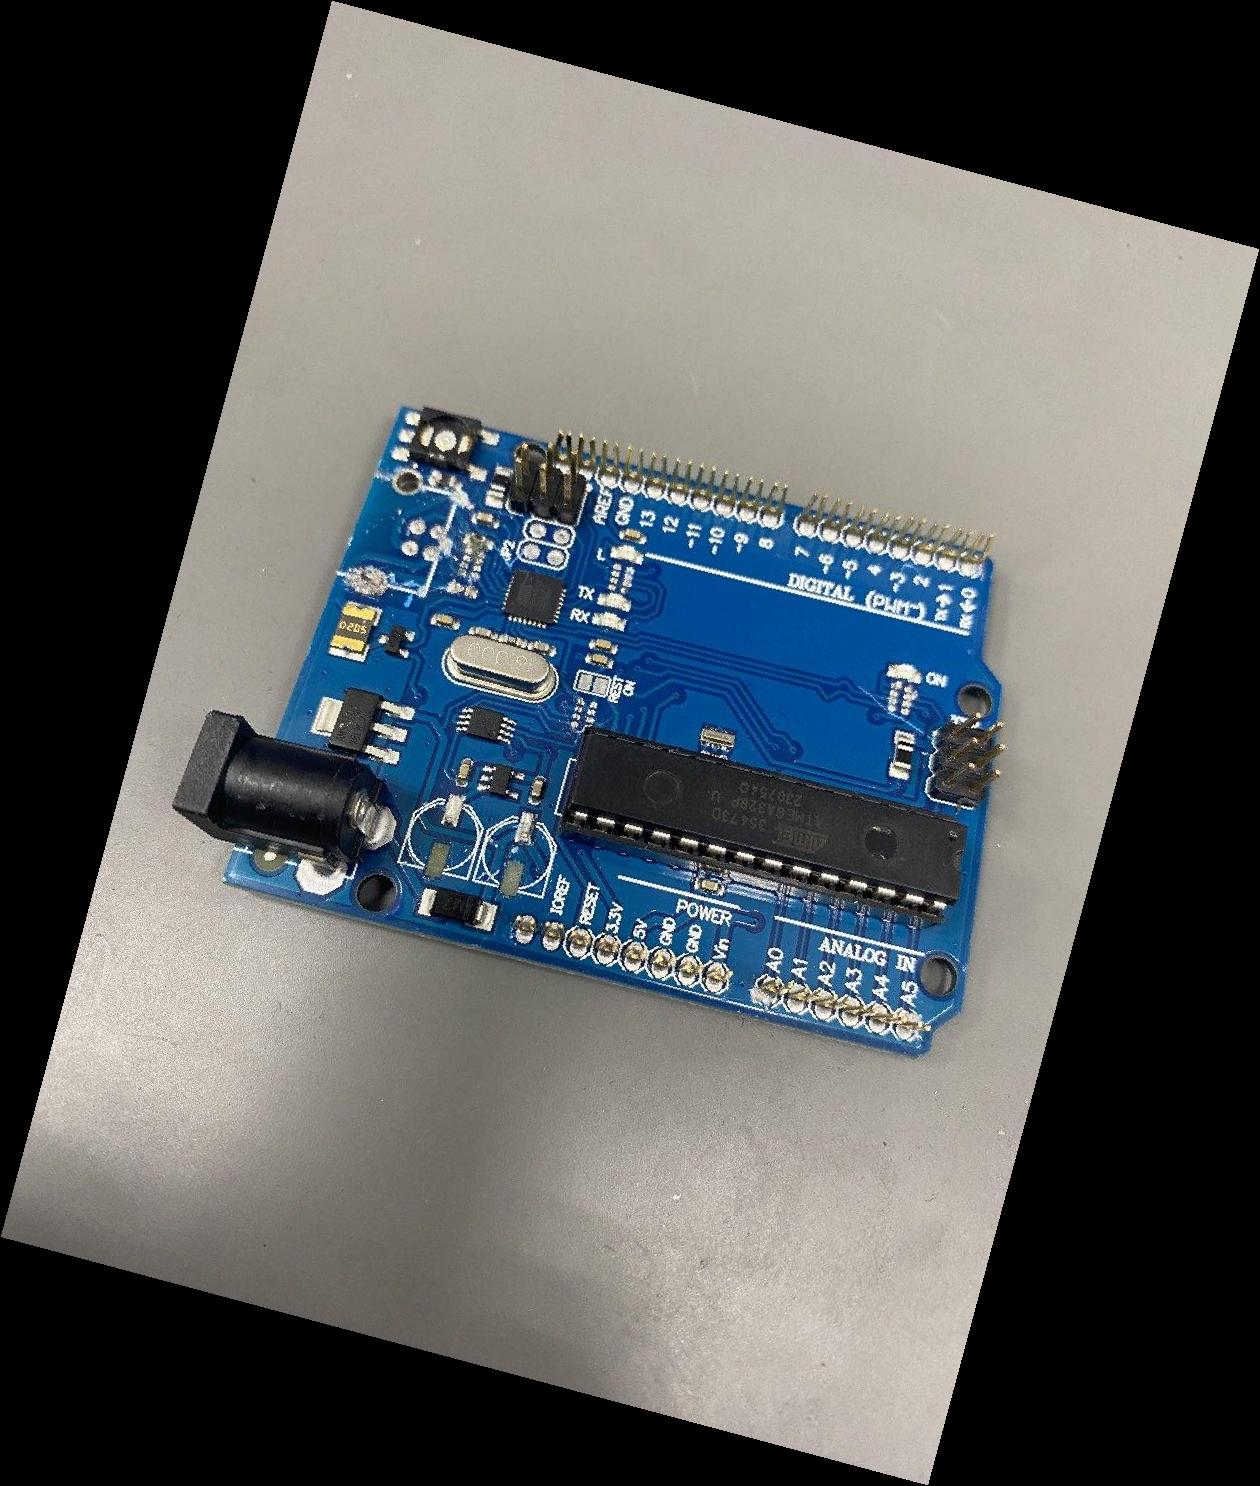ATmega328 chip: (559, 725, 966, 929)
Arduino board: (171, 404, 1002, 1059)
